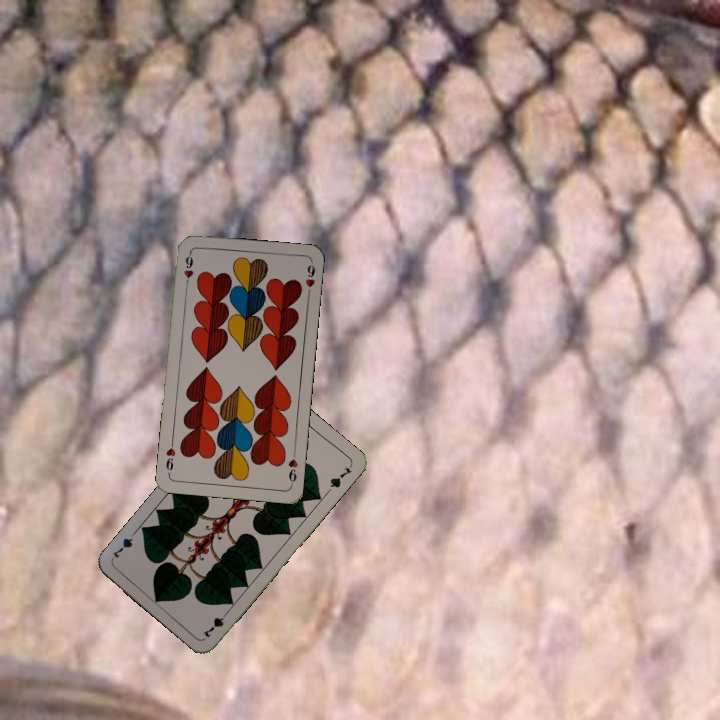G7: (199, 606, 232, 641)
H9: (284, 447, 300, 488), (180, 248, 196, 289)
